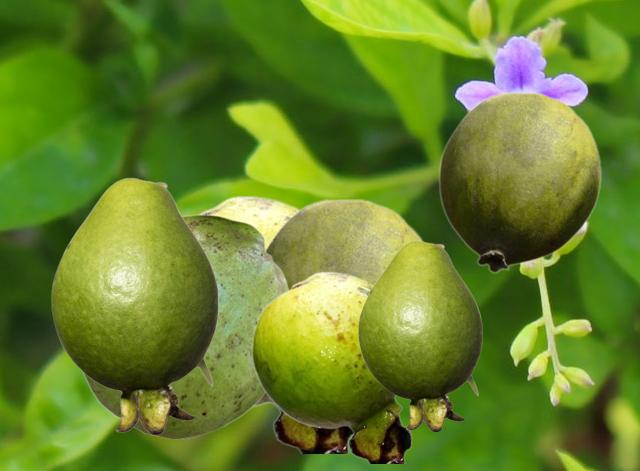guava: (81, 214, 289, 438), (51, 177, 217, 434), (197, 195, 351, 452), (251, 271, 412, 462), (438, 91, 601, 272), (358, 240, 481, 431), (266, 198, 426, 286)
